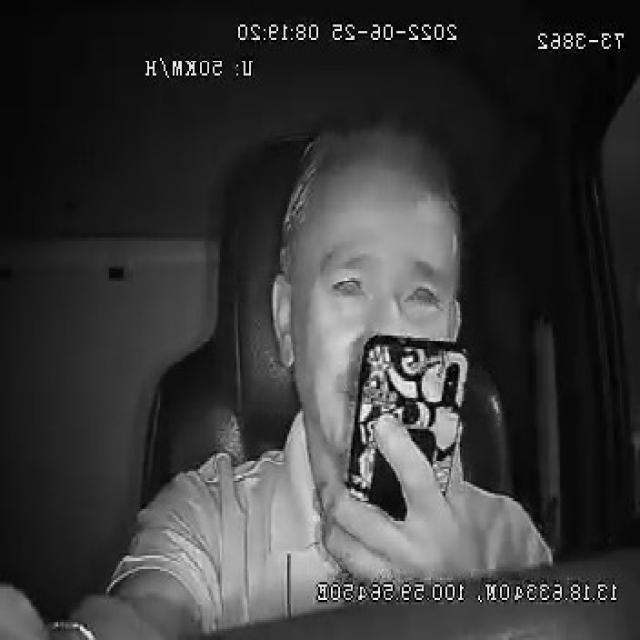phone: (339, 332, 472, 559)
